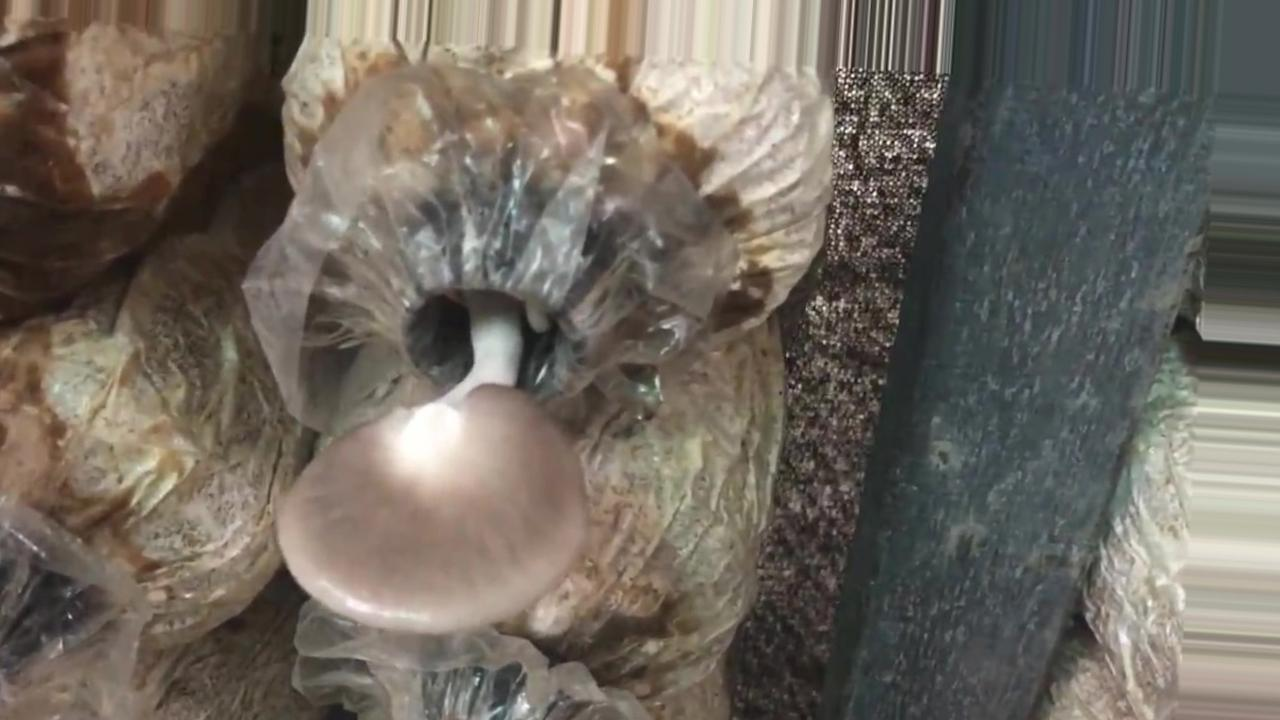nam: (275, 217, 586, 639)
